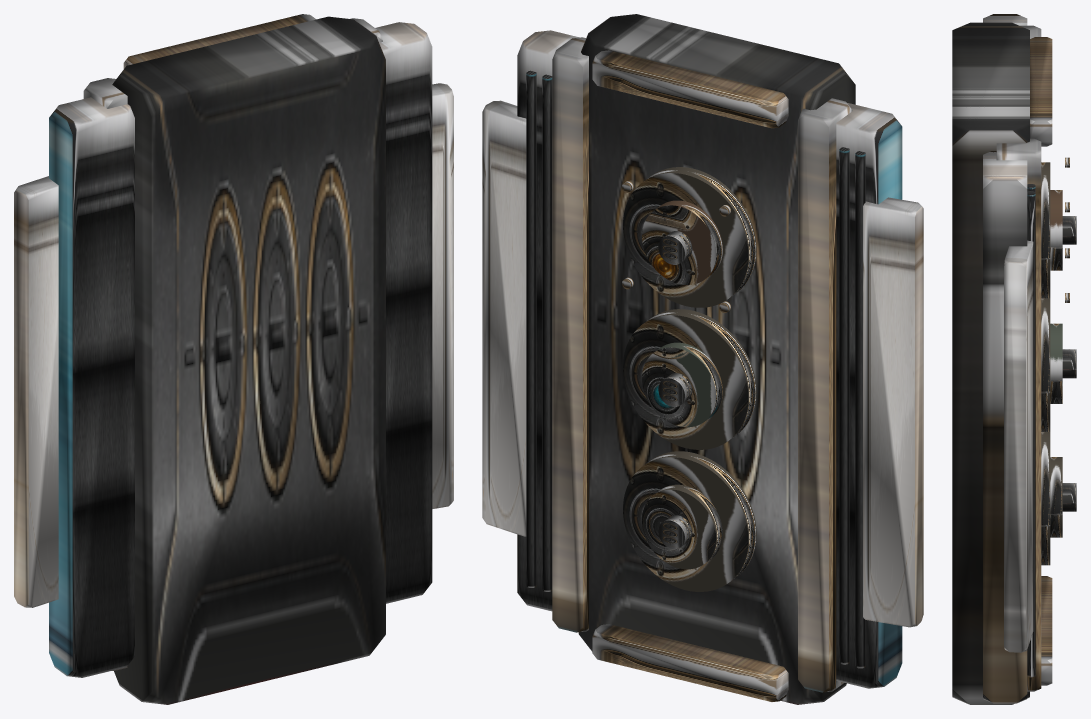
File: room_l5_v3_three_lock_monolith.glb
3 renders of one model, left to right at view 1: azimuth 30°, elevation 25°; view 2: azimuth 150°, elevation 25°; view 3: azimuth 270°, elevation 25°, orthographic. The views are drawn at different scales.
Parts seen in each view (by area): view 1: sculpted_graphite_body, side_-0.58_pad_backing, side_0.58_pad_backing, white_side_fin_-0.74, white_side_fin_0.74, top_brass_handle, vertical_brass_edge_-0.48; view 2: sculpted_graphite_body, white_side_fin_-0.74, vertical_brass_edge_-0.48, vertical_brass_edge_0.48, white_side_fin_0.74, side_-0.58_pad_backing, lock_outer_ring_1, lock_outer_ring_0, lock_outer_ring_2, top_brass_handle, bottom_brass_handle, side_0.58_pad_backing (+10 smaller); view 3: sculpted_graphite_body, side_0.58_pad_backing, white_side_fin_0.74, vertical_brass_edge_0.48, top_brass_handle, side_0.58_raised_vertical_rib_2, lock_outer_ring_2, lock_outer_ring_1, lock_outer_ring_0, bottom_brass_handle, lock_status_lens_0, lock_status_lens_1 (+5 smaller).
Part boxes in pixels (left/top/right/bottom): sculpted_graphite_body: left=112, top=16, right=385, bottom=704; side_-0.58_pad_backing: left=49, top=97, right=134, bottom=677; side_0.58_pad_backing: left=375, top=22, right=432, bottom=603; white_side_fin_-0.74: left=14, top=176, right=58, bottom=607; white_side_fin_0.74: left=432, top=83, right=453, bottom=508; top_brass_handle: left=123, top=14, right=316, bottom=68; vertical_brass_edge_-0.48: left=83, top=78, right=127, bottom=670; sculpted_graphite_body: left=578, top=14, right=855, bottom=704; white_side_fin_-0.74: left=863, top=197, right=923, bottom=627; vertical_brass_edge_-0.48: left=798, top=98, right=852, bottom=692; vertical_brass_edge_0.48: left=552, top=37, right=588, bottom=632; white_side_fin_0.74: left=482, top=100, right=526, bottom=536; side_-0.58_pad_backing: left=836, top=103, right=902, bottom=688; lock_outer_ring_1: left=623, top=309, right=756, bottom=449; lock_outer_ring_0: left=623, top=451, right=756, bottom=591; lock_outer_ring_2: left=623, top=167, right=756, bottom=307; top_brass_handle: left=592, top=50, right=788, bottom=128; bottom_brass_handle: left=592, top=624, right=788, bottom=701; side_0.58_pad_backing: left=517, top=30, right=579, bottom=611; sculpted_graphite_body: left=952, top=22, right=1029, bottom=704; side_0.58_pad_backing: left=983, top=151, right=1027, bottom=703; white_side_fin_0.74: left=1004, top=240, right=1033, bottom=652; vertical_brass_edge_0.48: left=996, top=138, right=1041, bottom=691; top_brass_handle: left=1030, top=37, right=1052, bottom=146; side_0.58_raised_vertical_rib_2: left=1027, top=191, right=1035, bottom=677; lock_outer_ring_2: left=1041, top=162, right=1050, bottom=298; lock_outer_ring_1: left=1041, top=298, right=1050, bottom=431; lock_outer_ring_0: left=1041, top=432, right=1050, bottom=565; bottom_brass_handle: left=1041, top=576, right=1052, bottom=685; lock_status_lens_0: left=1050, top=457, right=1062, bottom=537; lock_status_lens_1: left=1050, top=323, right=1062, bottom=403.
Size of the model in its own units: 1.69 by 2.28 by 0.4475.
11 materials, 11 textured.
